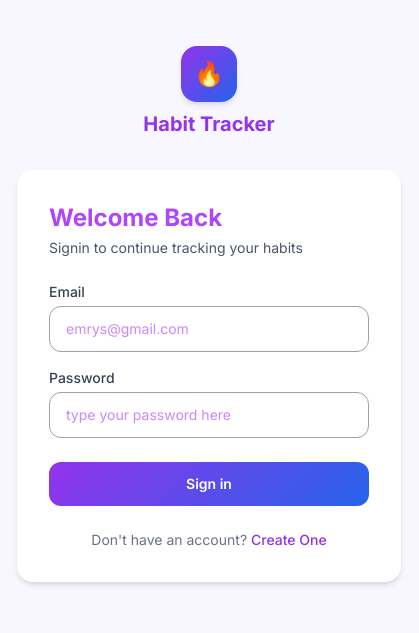
Test: auth flow › shows an error for invalid login credentials
The width and height of the screenshot is (419, 633).
// type wrong credentials
In the field with test id "auth-login-email": (209, 329) left=49, top=306, right=369, bottom=352, type "wrong@example.com"
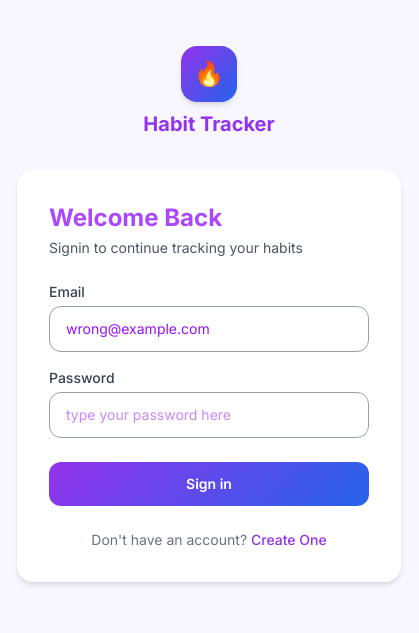
In the password field with test id "auth-login-password": (209, 415) left=49, top=392, right=369, bottom=438, type "wrongpassword"
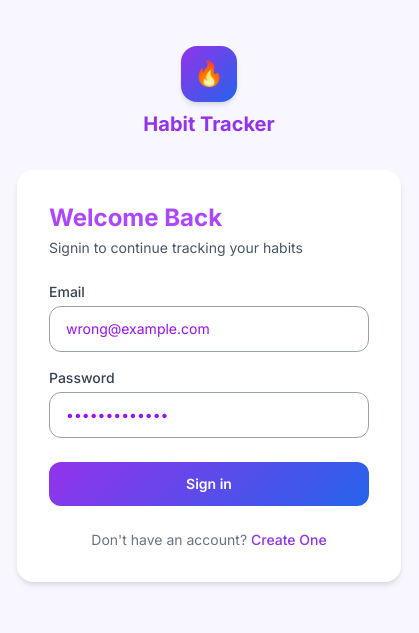
Click the button with test id "auth-login-submit": (209, 484) left=49, top=462, right=369, bottom=506
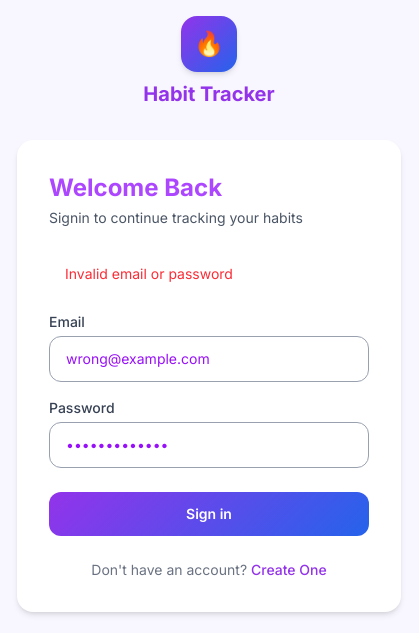
Result: the text "Invalid email or password" is shown at left=65, top=265, right=233, bottom=282
